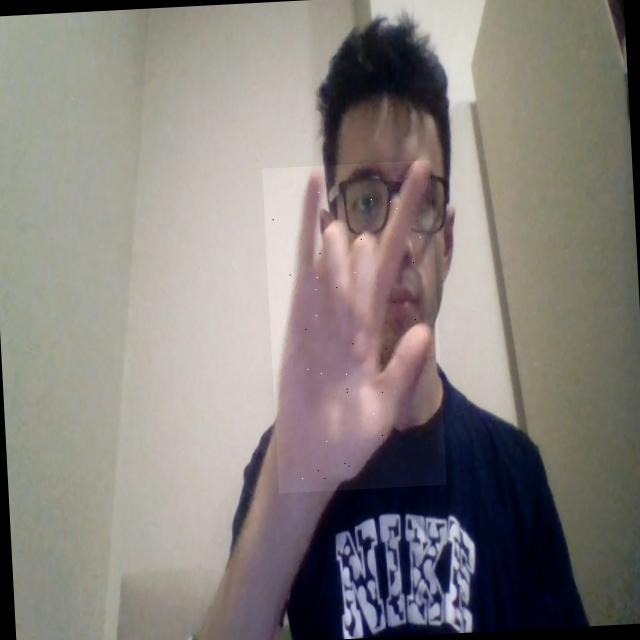iloveyou: (262, 160, 447, 493)
